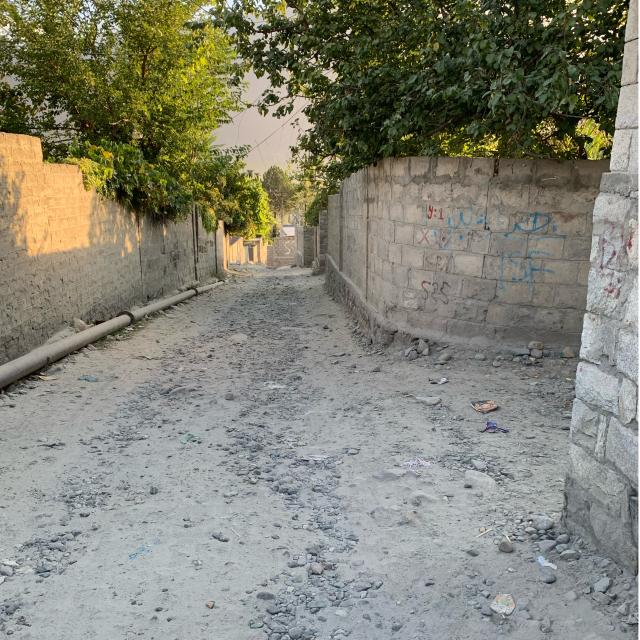Right-Turn: (275, 354, 568, 554)
straight: (235, 267, 322, 514)
